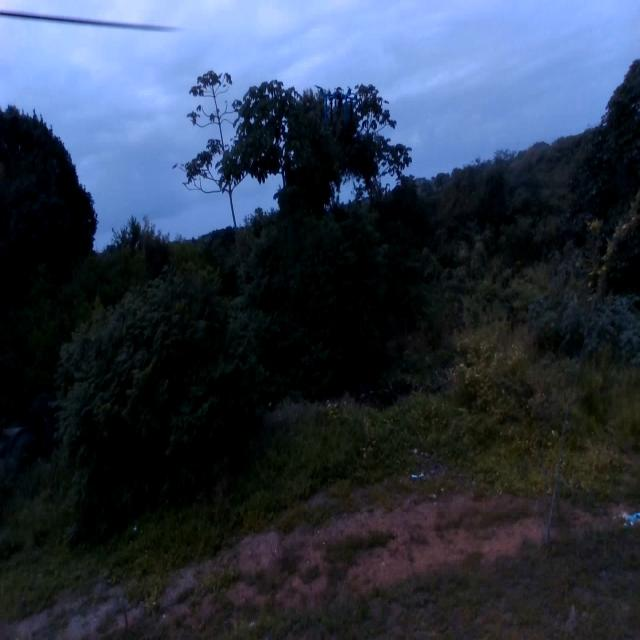-uav-: (314, 84, 358, 134)
